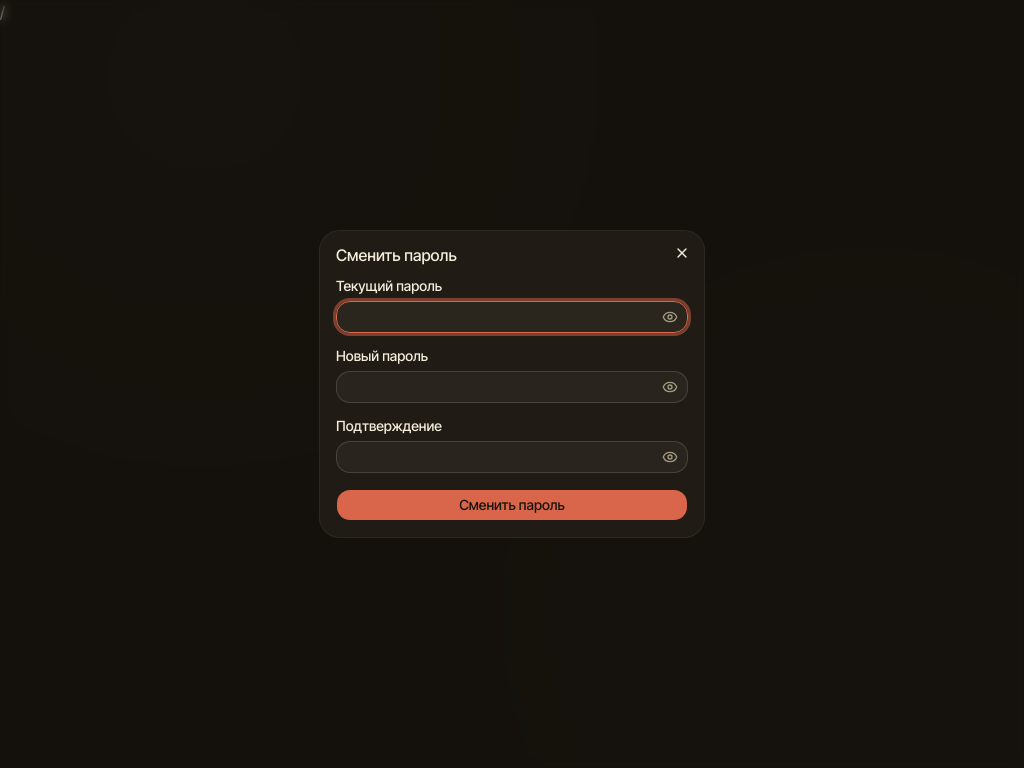
ChangePasswordDialog › показывает локальную ошибку при несовпадении паролей и не зовёт API
The image size is (1024, 768).
In the password field labelled "Текущий пароль": coordinates (512, 317) [336,301,688,333], type "oldpass123"
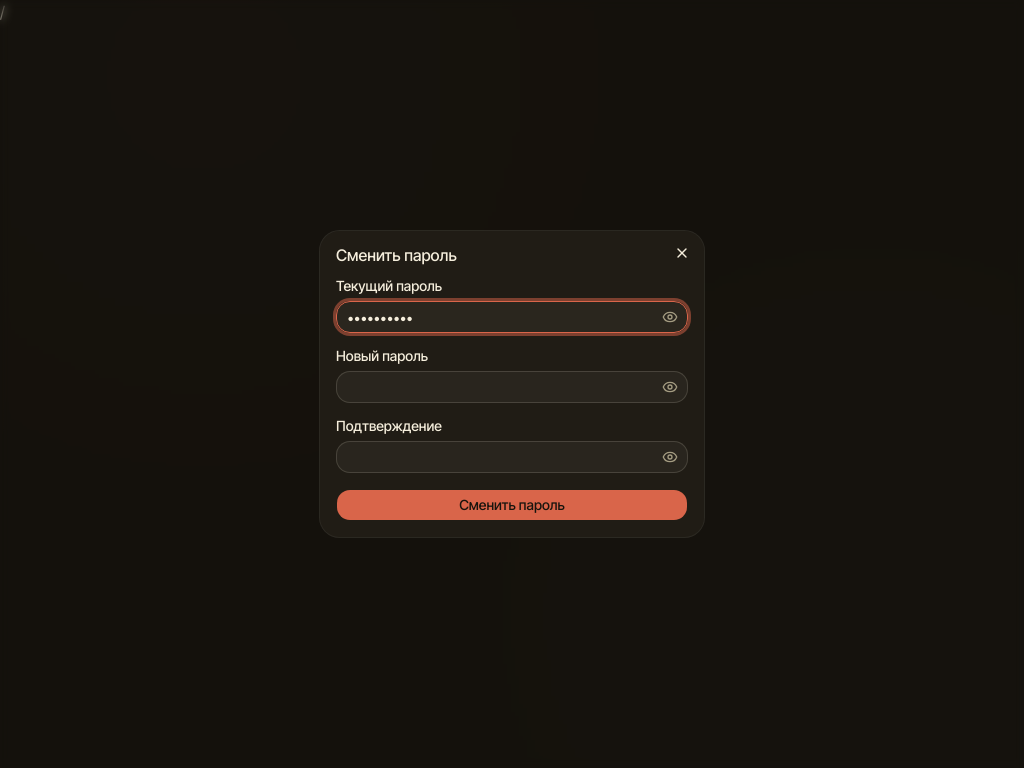
In the password field labelled "Новый пароль": coordinates (512, 387) [336,371,688,403], type "newpass123"
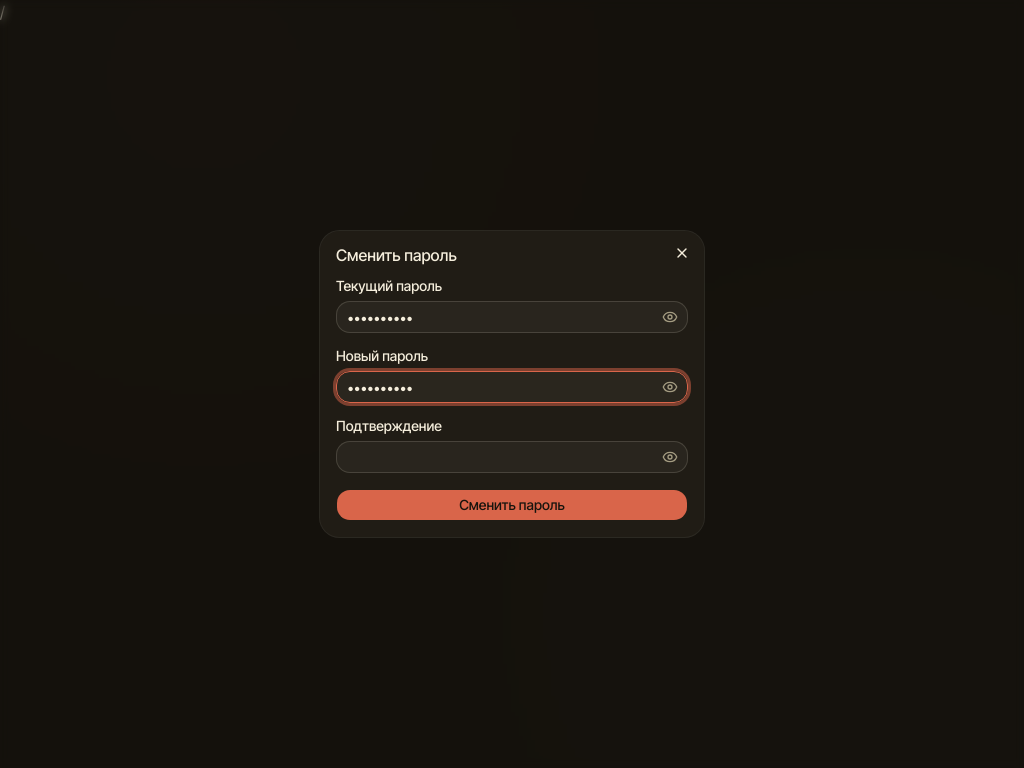
In the password field labelled "Подтверждение": coordinates (512, 457) [336,441,688,473], type "другой123"
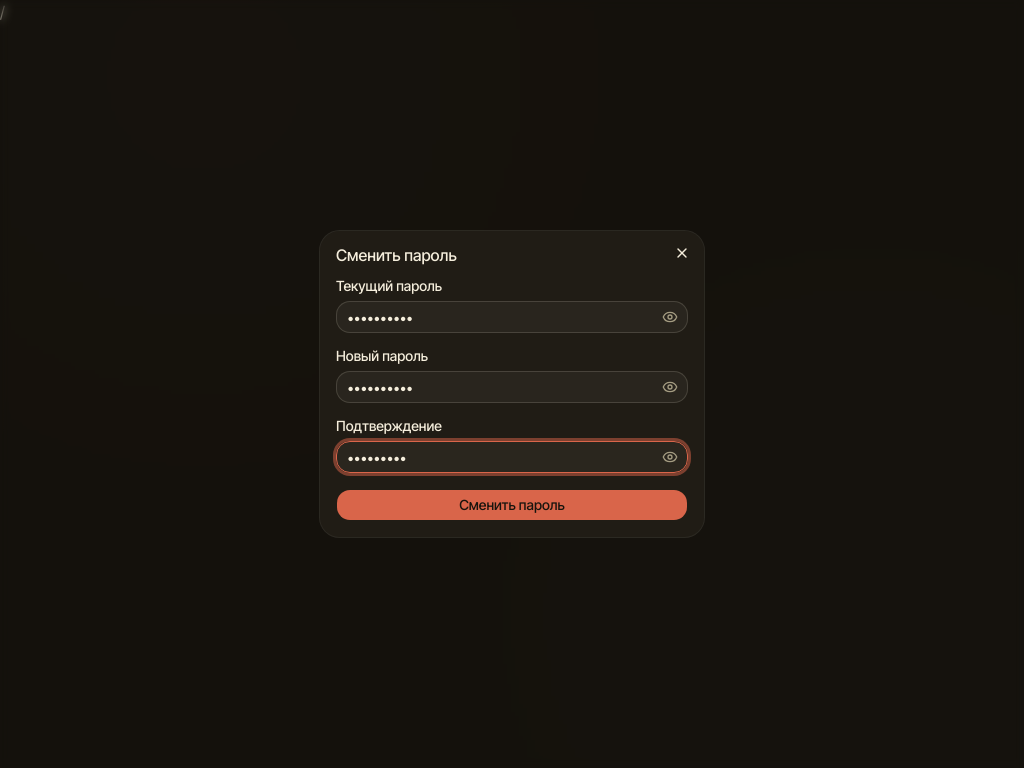
Click the button "Сменить пароль": coordinates (512, 505) [336,489,688,521]
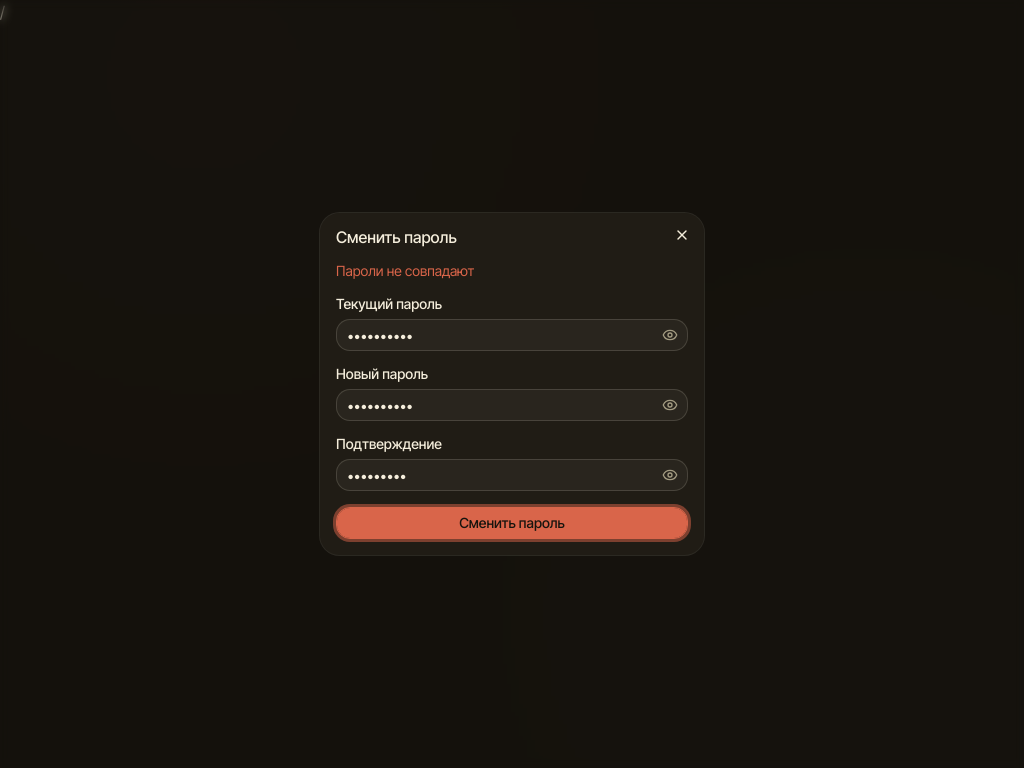
Result: the text "Пароли не совпадают" is shown at [336,262,474,279]
